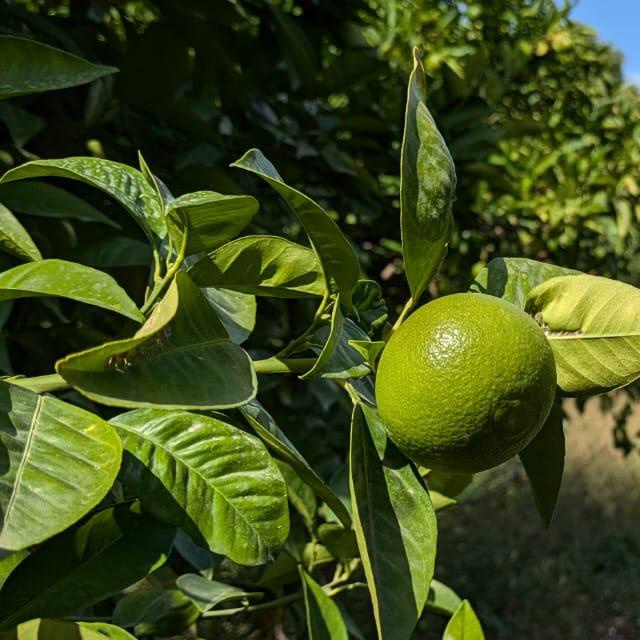orange: (356, 282, 568, 486)
